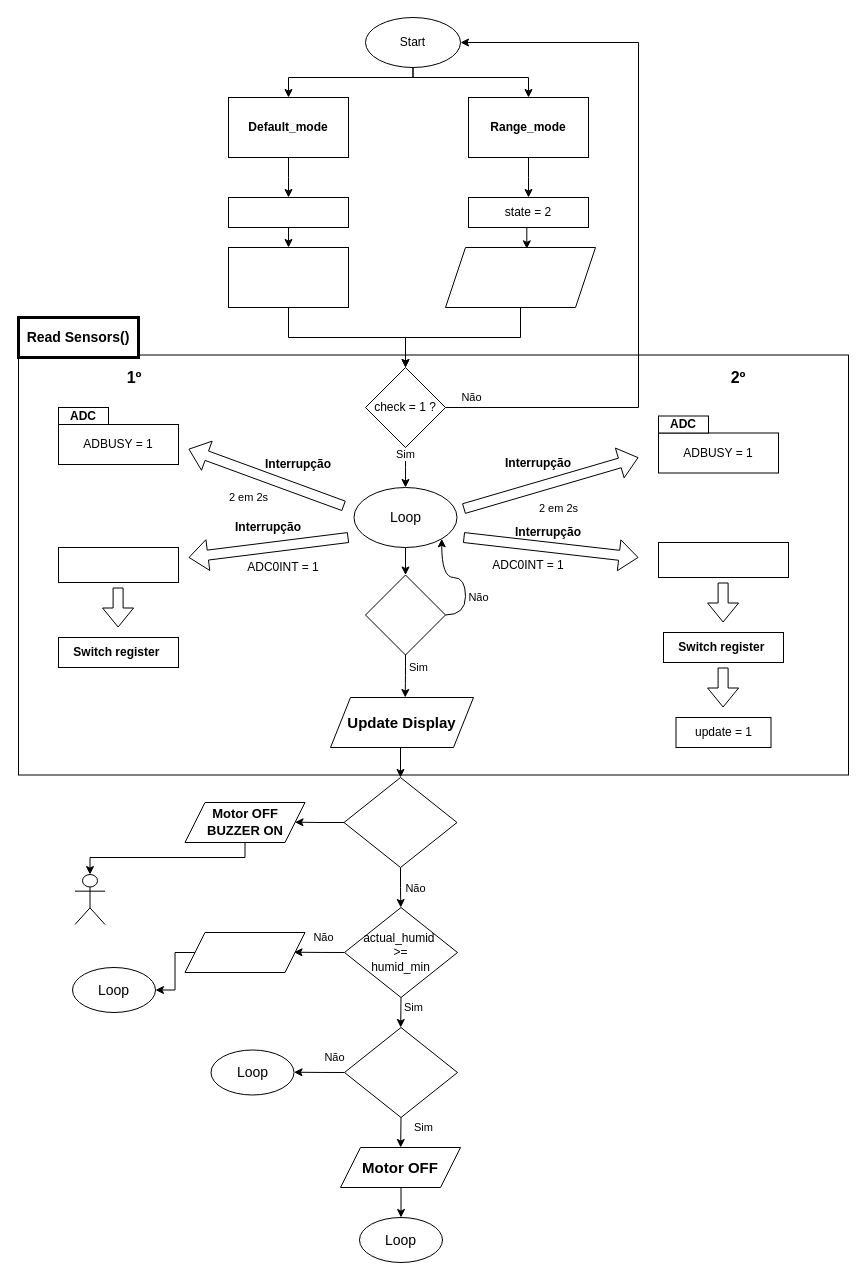
Some shapes in this 866 by 1280 pixel diagram are drawn without their labels. Each missing label, with the centre of its shape:
-> Temp MAX -> Humid MIN -> Humid MAX: pixel 520 277
Actor: pixel 89 899
actual_humid >= humid_max: pixel 401 1072
actual_temp >= temp_max: pixel 400 822
Guardar humidade: pixel 118 564
Guardar temperatura: pixel 723 560
Motor ON: pixel 244 952
state = 0: pixel 288 212
temp_max = x humid_min = y humid_max = z: pixel 288 277
update = 1 ?: pixel 405 614
